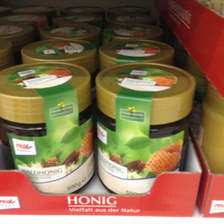honey: (96, 61, 199, 201), (2, 62, 97, 194)
